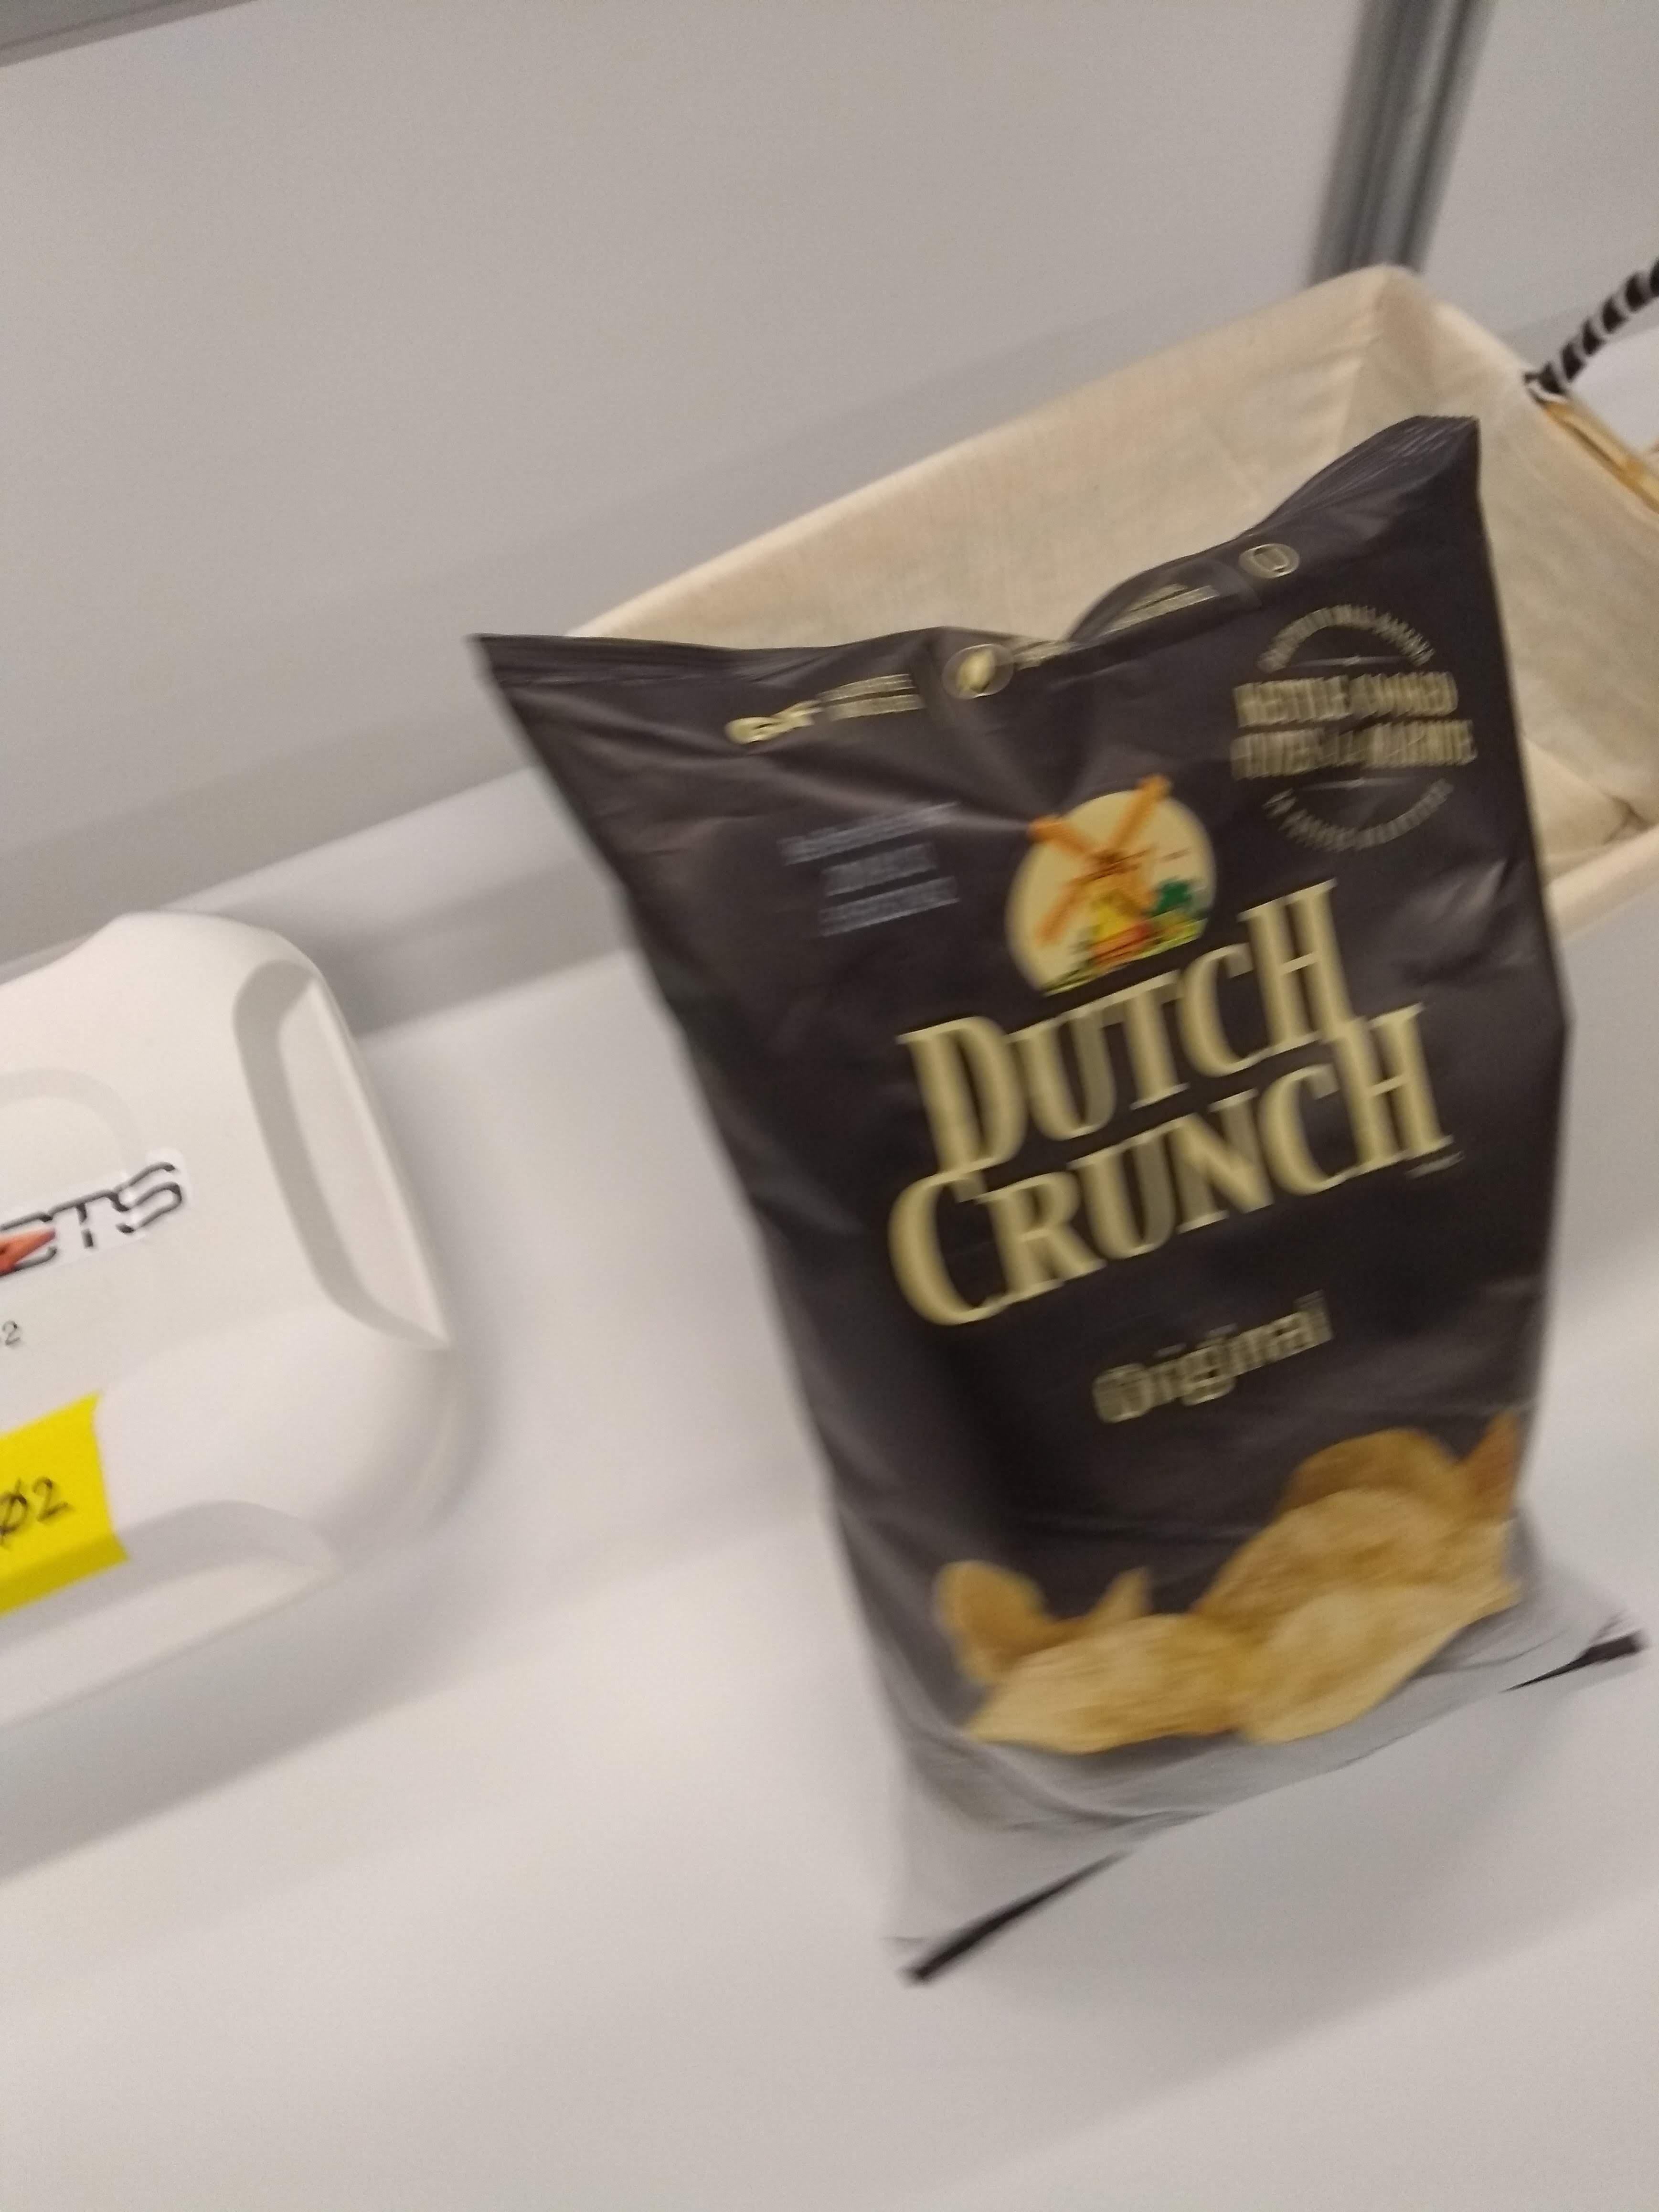potato_chips: (439, 392, 1659, 2008)
